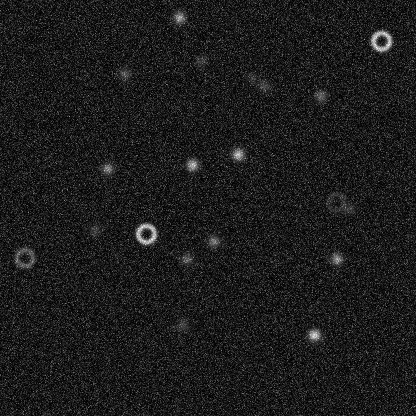Ring: (12, 245, 36, 269), (324, 190, 348, 214), (369, 28, 393, 52), (134, 221, 158, 245)
Spot: (178, 250, 194, 266), (184, 156, 200, 172), (86, 222, 102, 238), (244, 69, 260, 85), (305, 326, 321, 342), (99, 160, 115, 176), (341, 200, 357, 216), (174, 317, 190, 333), (205, 233, 221, 249), (230, 146, 246, 162), (192, 52, 208, 68), (116, 65, 132, 81), (256, 77, 272, 93), (312, 87, 328, 103), (171, 9, 187, 25), (328, 250, 344, 266)
